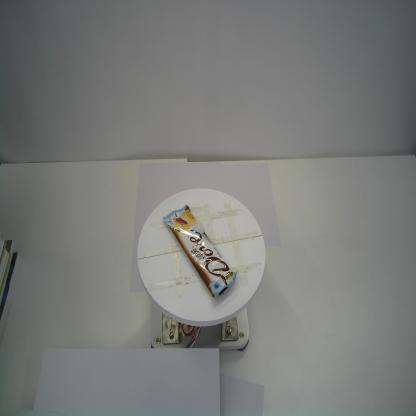Chocolate: (162, 204, 238, 299)
